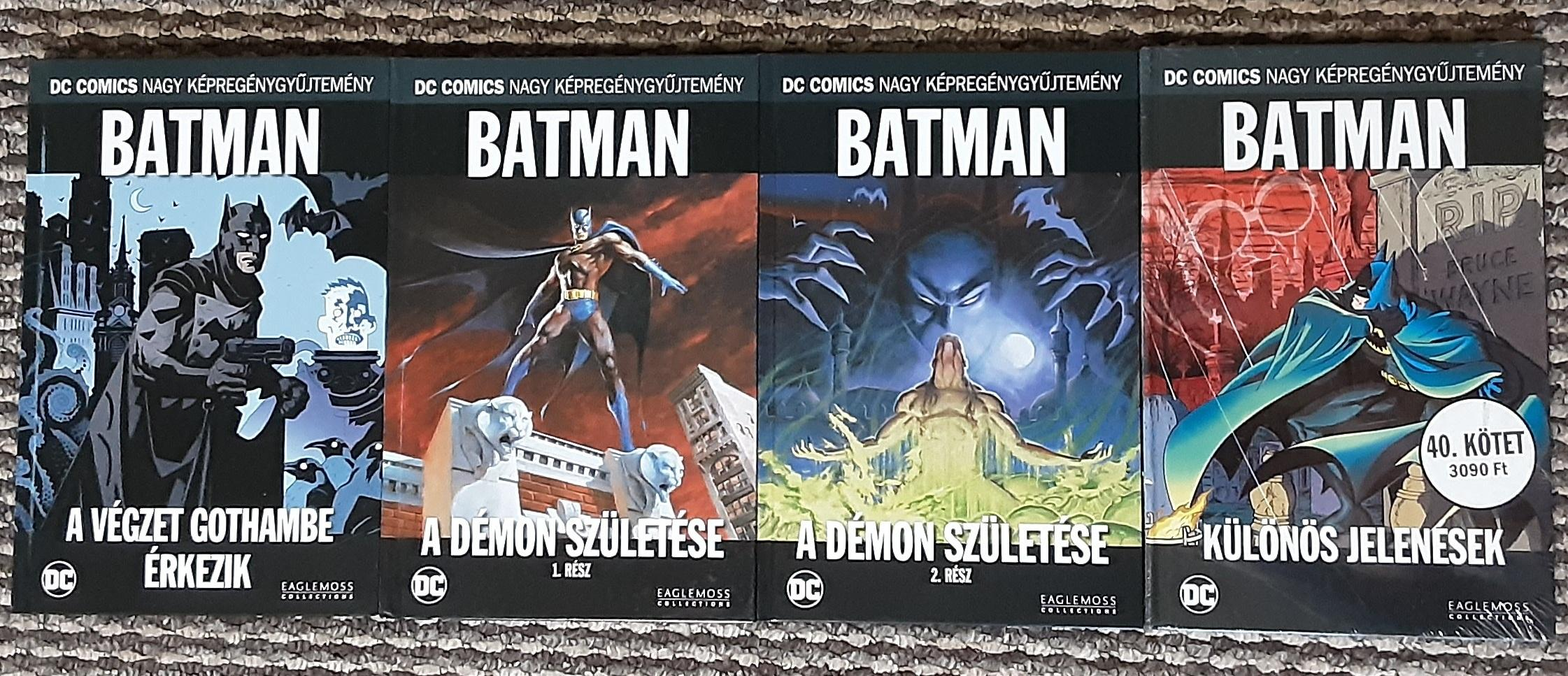comic: (1139, 43, 1555, 644), (757, 52, 1145, 626), (382, 53, 760, 619), (14, 57, 387, 614)
